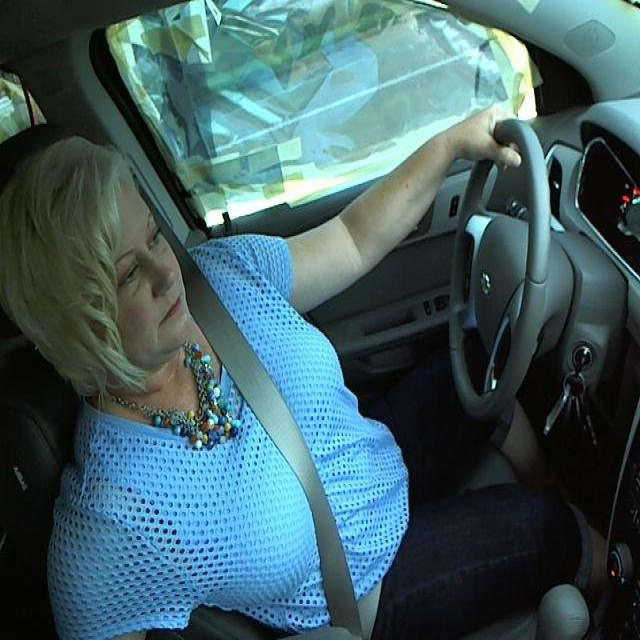seatbelt: (199, 317, 365, 611)
